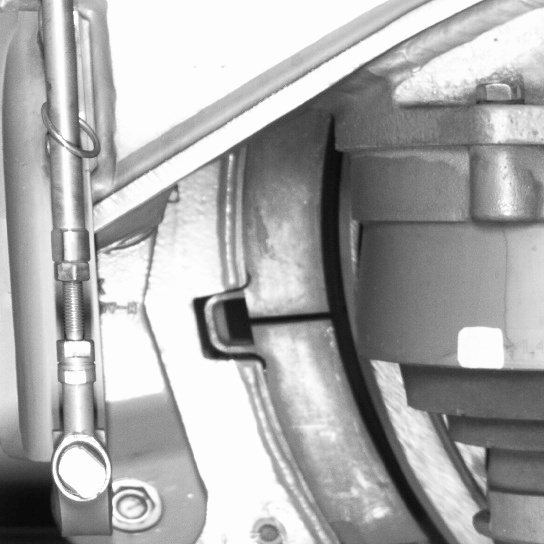KnifeSwitch: (249, 147, 457, 540)
